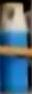cylinder: (0, 1, 32, 94)
